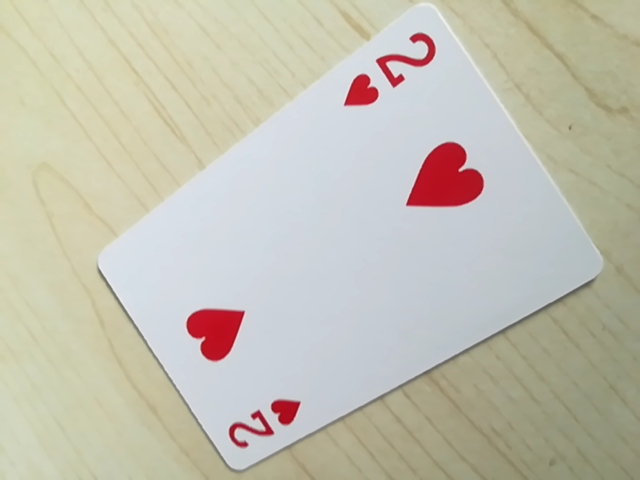hx 2: (341, 25, 441, 112), (221, 394, 303, 458)
